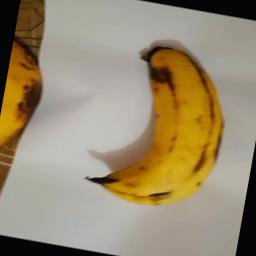Banana Unripe: (81, 32, 238, 218)
